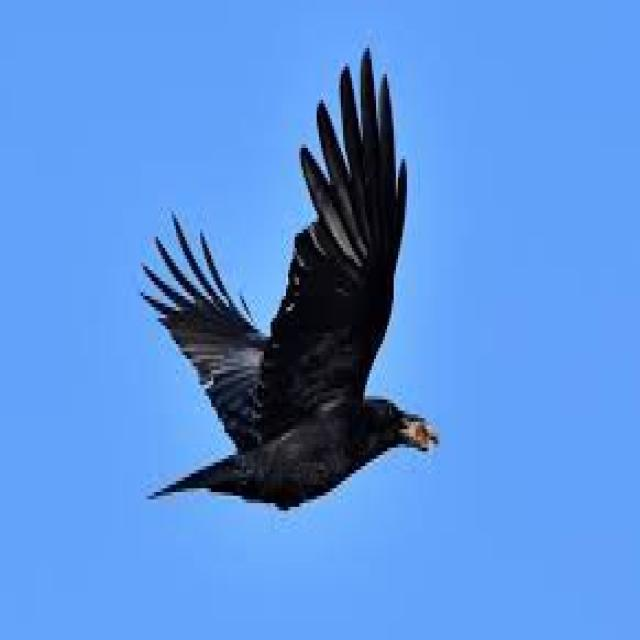crow: (173, 178, 460, 576)
